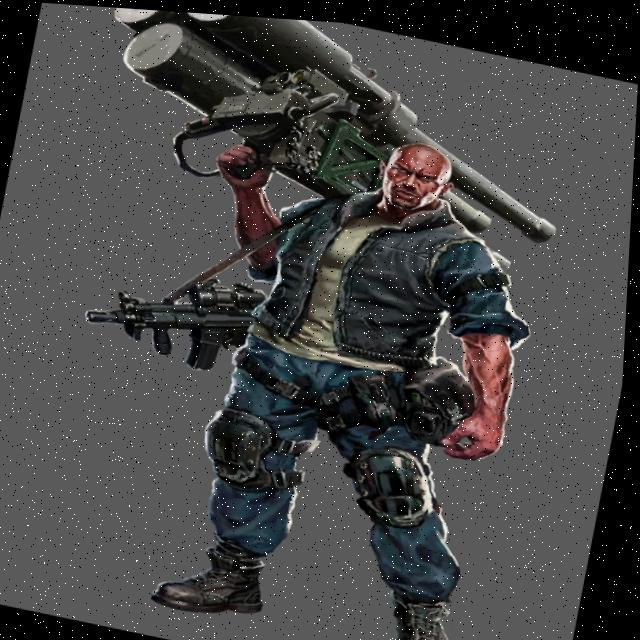firearm: (74, 4, 594, 246), (83, 250, 276, 381)
